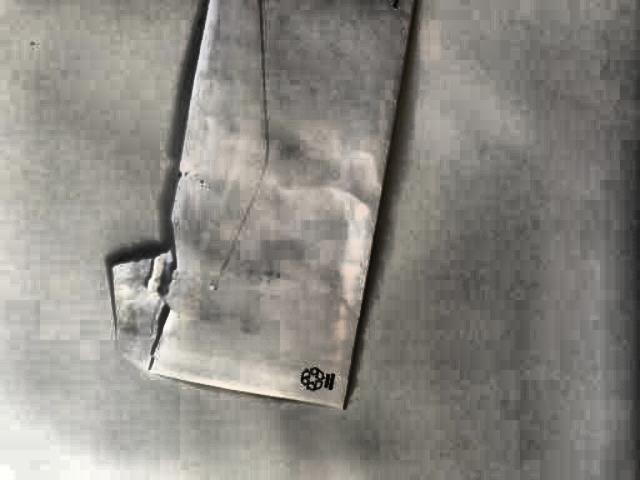Paper: (114, 0, 414, 418)
